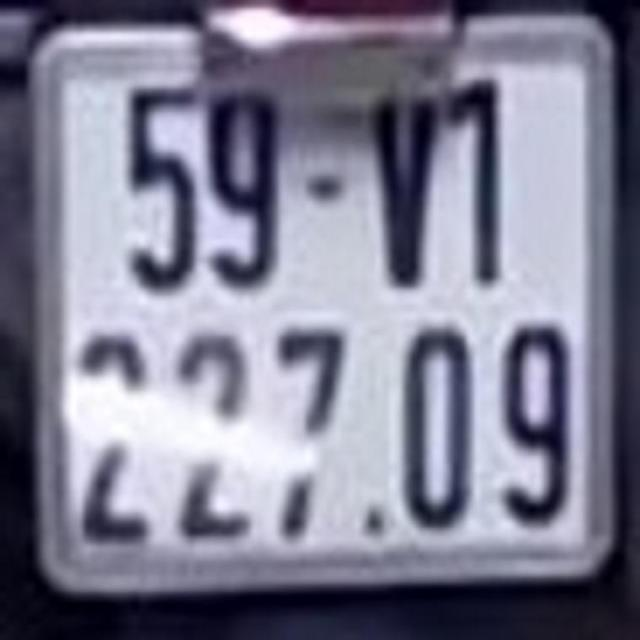0: (387, 304, 480, 531)
1: (448, 76, 523, 284)
2: (66, 314, 161, 544), (170, 316, 260, 550)
5: (112, 69, 199, 298)
7: (266, 308, 352, 540)
9: (493, 296, 586, 530), (202, 75, 291, 303)
V: (358, 88, 445, 298)
